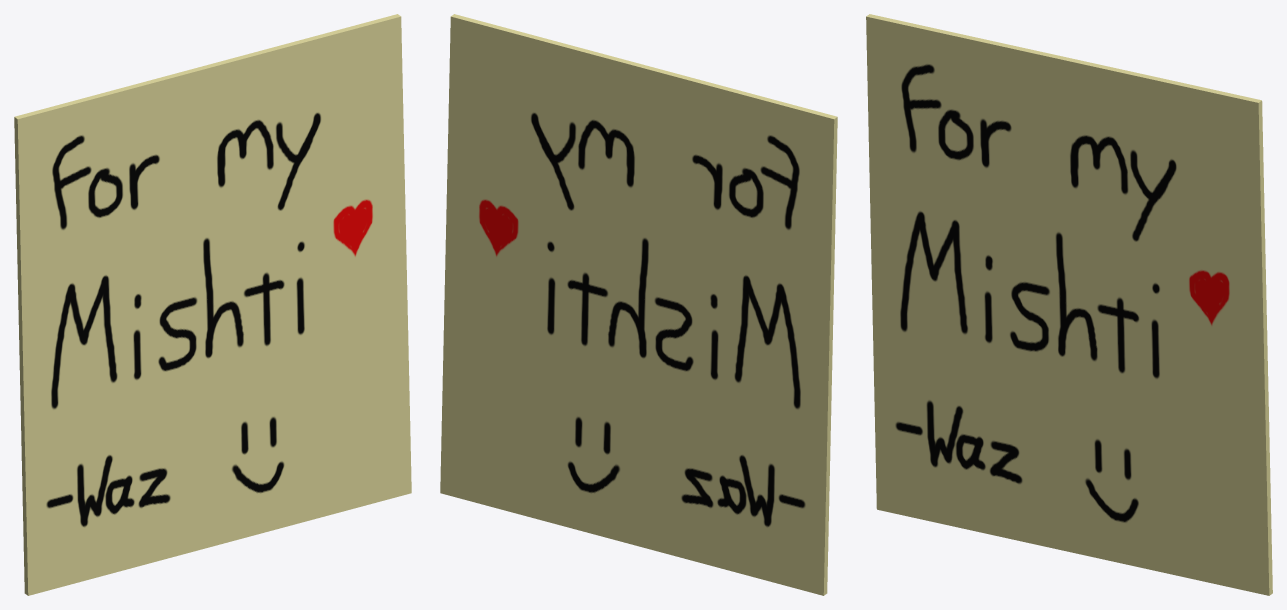
The model's file is note.gltf.
The picture shows the model from 3 angles, left to right: view 1: azimuth 30°, elevation 25°; view 2: azimuth 150°, elevation 25°; view 3: azimuth 330°, elevation 25°; orthographic projection. The views are drawn at different scales.
Parts seen in each view (by area): view 1: Plane; view 2: Plane; view 3: Plane.
Part boxes in pixels (left/top/right/bottom): Plane: left=14, top=14, right=411, bottom=595; Plane: left=440, top=14, right=837, bottom=595; Plane: left=866, top=14, right=1272, bottom=595.
Size of the model in its own units: 1.72 by 2.04 by 0.0263.
Materials: 1 (1 with a texture image).
